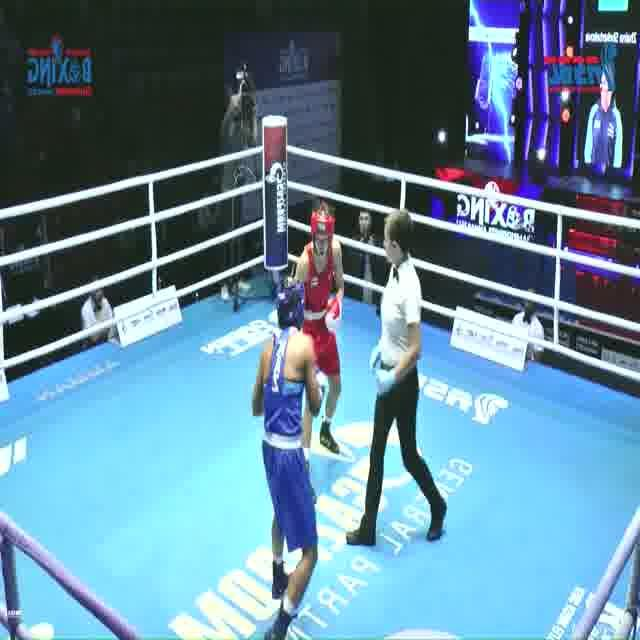blue-player: (247, 273, 330, 640)
red-player: (285, 199, 351, 465)
referee: (343, 208, 450, 548)
